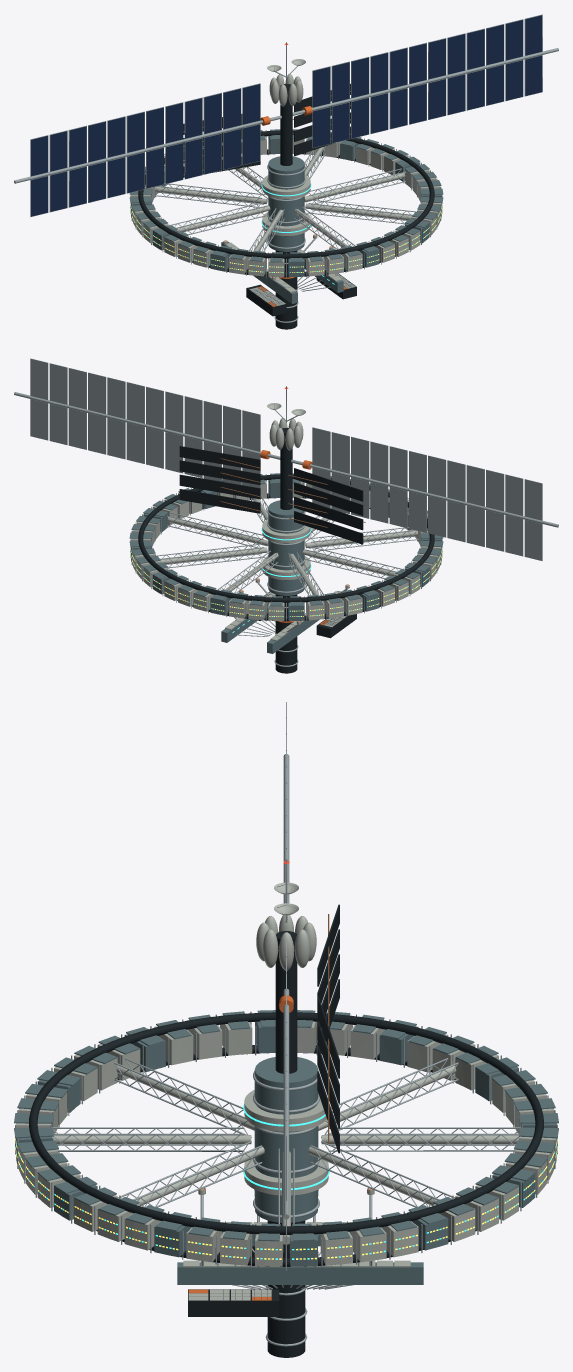
Rendered from hero-station-mid.glb.
3 views of the same model, one above another, from view 1: azimuth 30°, elevation 25°; view 2: azimuth 150°, elevation 25°; view 3: azimuth 270°, elevation 25° (orthographic). The views are drawn at different scales.
Parts seen in each view (by area): view 1: hero-station / mid; view 2: hero-station / mid; view 3: hero-station / mid.
Boxes of the visible parts, x1,y1,x2,y2 form: hero-station / mid: (14, 14, 558, 329); hero-station / mid: (14, 358, 558, 673); hero-station / mid: (14, 702, 558, 1357).
Size of the model in its own units: 310 by 154 by 155.
